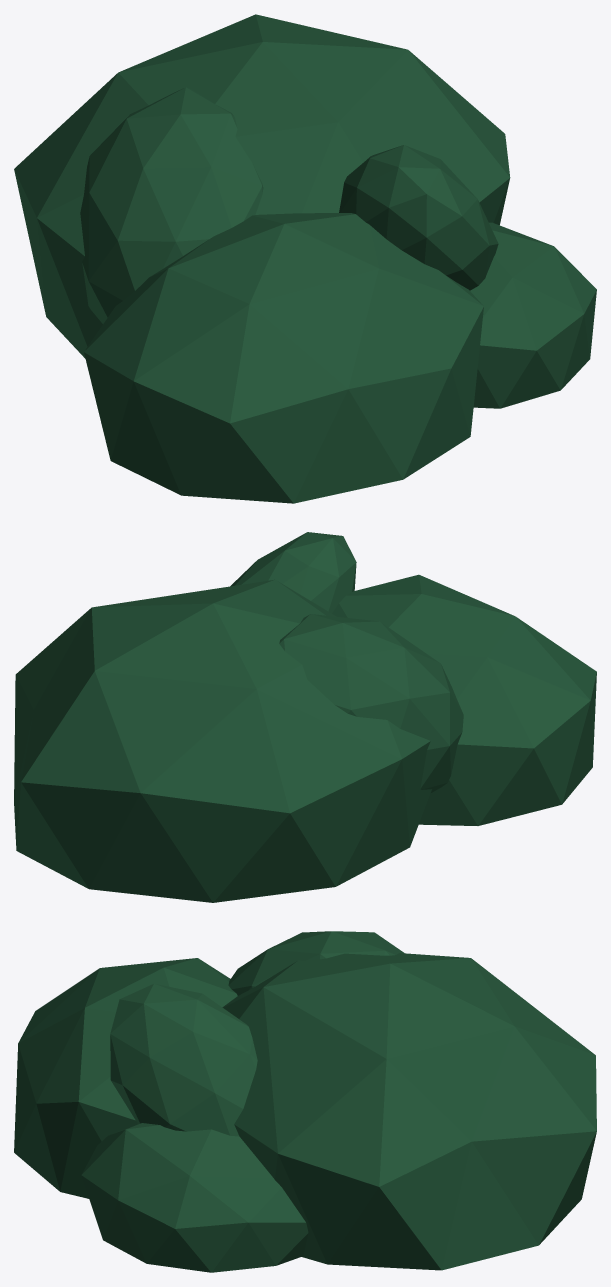
The model's file is bush.glb.
The picture shows the model from 3 angles, top to bottom: view 1: azimuth 30°, elevation 25°; view 2: azimuth 150°, elevation 25°; view 3: azimuth 270°, elevation 25°; orthographic projection. The views are drawn at different scales.
Visible parts, largest first — view 1: bush 2; view 2: bush 2; view 3: bush 2.
Part boxes in pixels (x1=…): bush 2: x1=14, y1=14, x2=596, y2=503; bush 2: x1=14, y1=532, x2=596, y2=902; bush 2: x1=14, y1=931, x2=596, y2=1272.
Bounding box in the file's own units: 1.39 × 0.6996 × 1.57.
